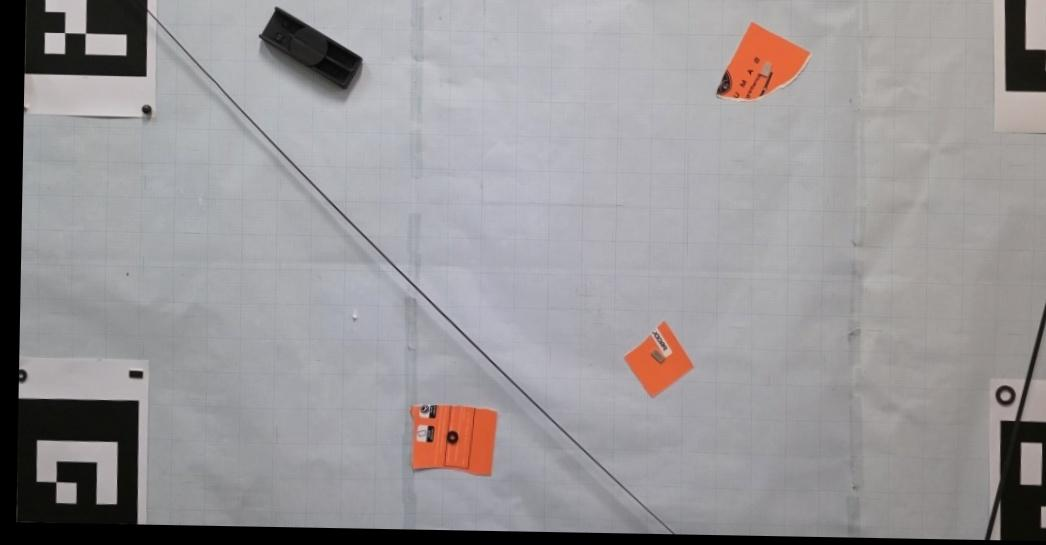obstacle: (256, 6, 363, 89), (714, 22, 813, 102), (408, 405, 499, 475), (623, 322, 695, 400)
